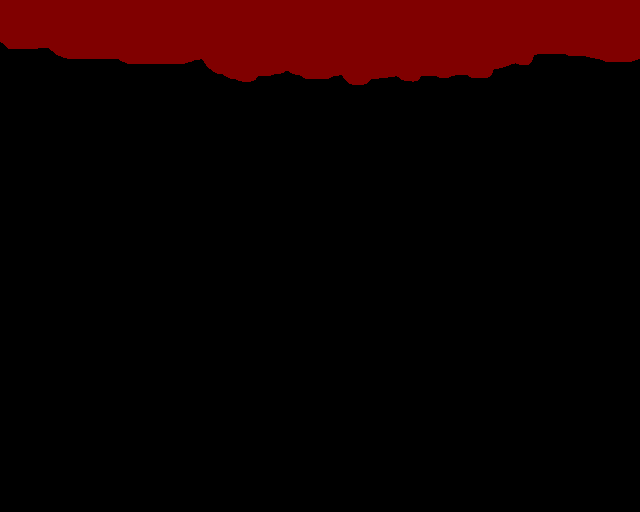Sky: (1, 1, 639, 85)
